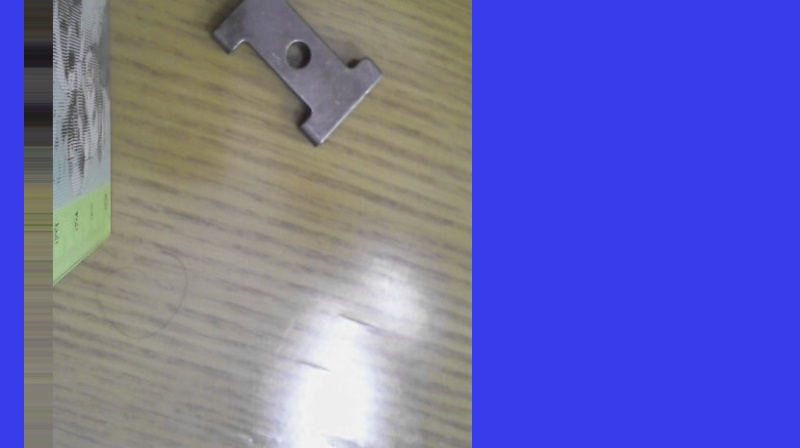O002: (207, 0, 388, 152)
